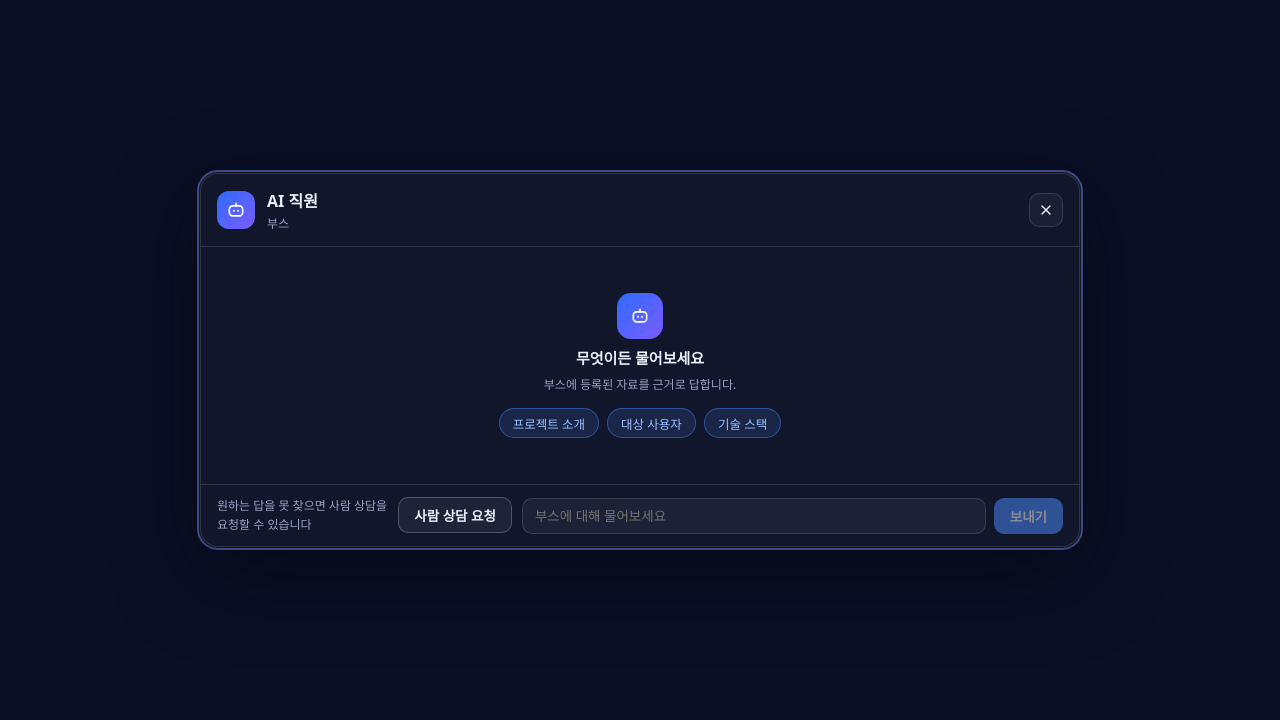
Test: AiChatOverlay 실서버 결선·SSE 렌더링 › agentId가 없으면 서버를 부르지 않고 바로 안내한다
Type "질문" into the field with placeholder "부스에 대해 물어보세요".
click(754, 516); type("질문")  # box [522,498,986,534]
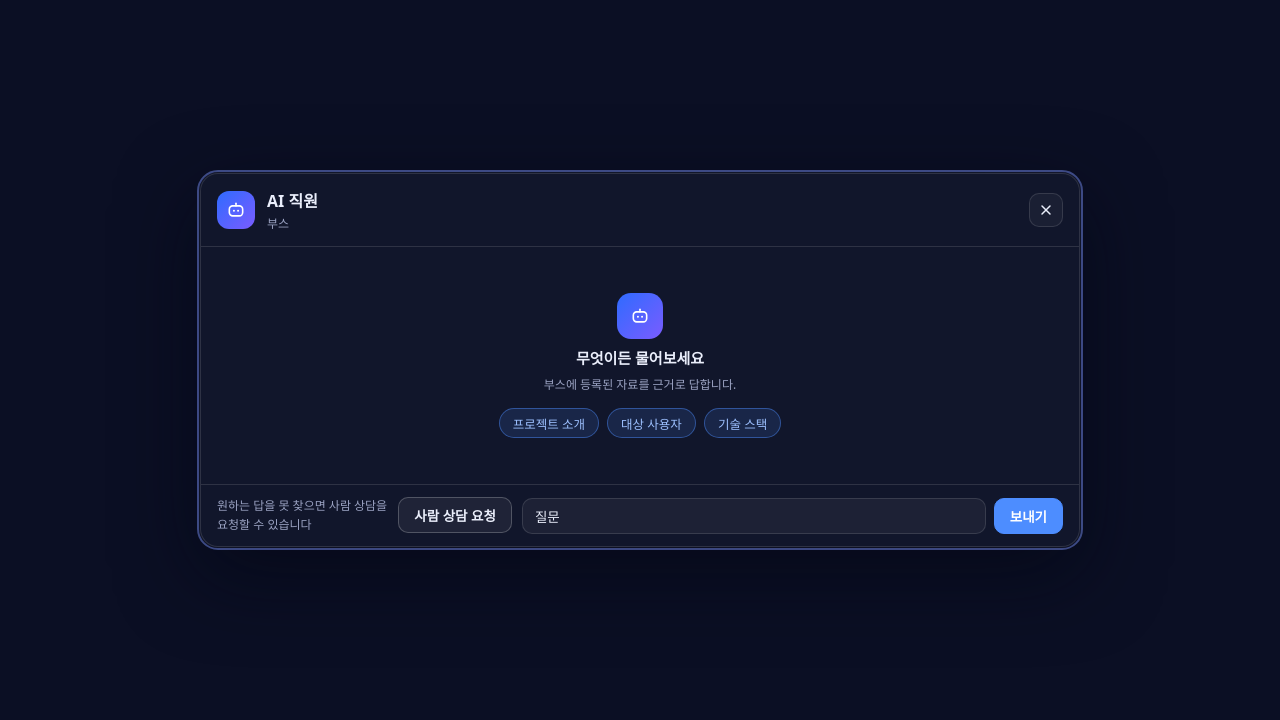
Click the button "보내기".
click(1028, 516)  # box [994,498,1063,534]
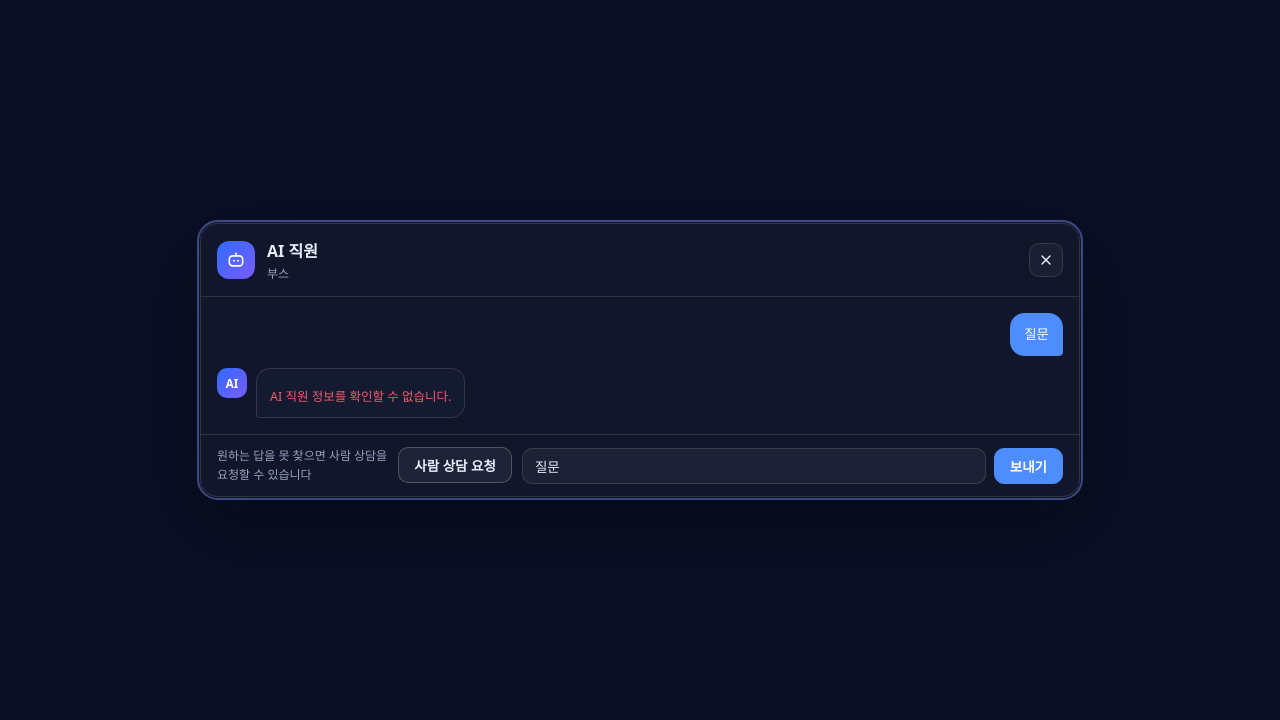
Result: the message reads "AI 직원 정보를 확인할 수 없습니다." at [270,388,451,405]
